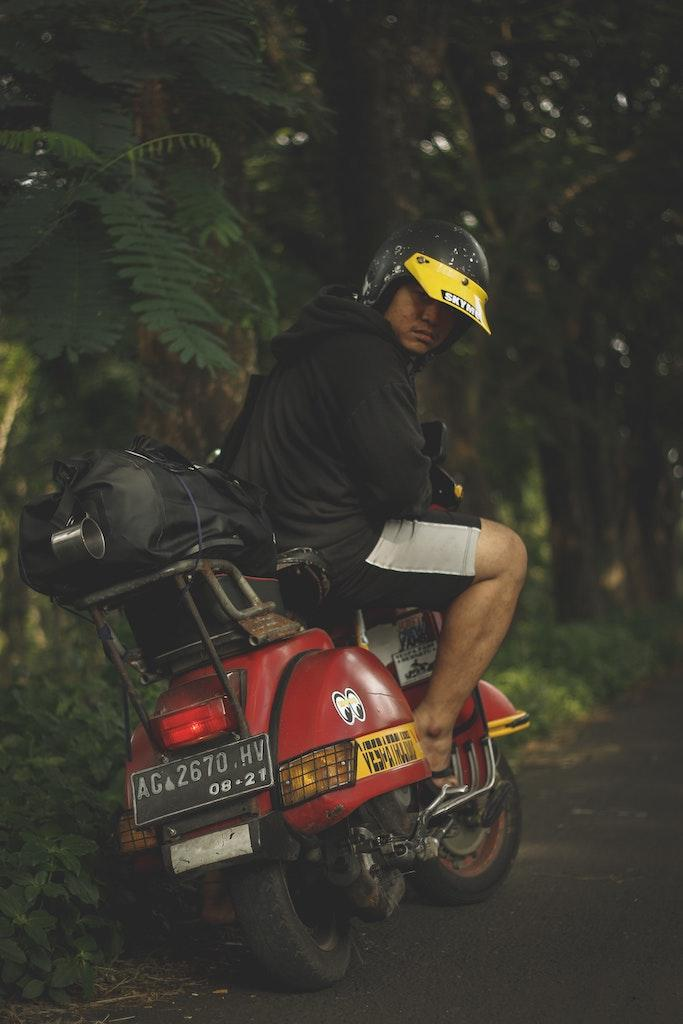helmet: (349, 217, 493, 373)
